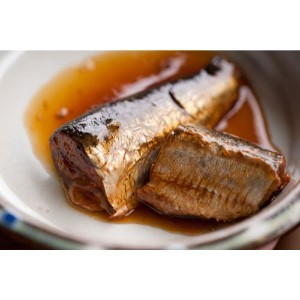sardine_brain food: (47, 62, 284, 223)
